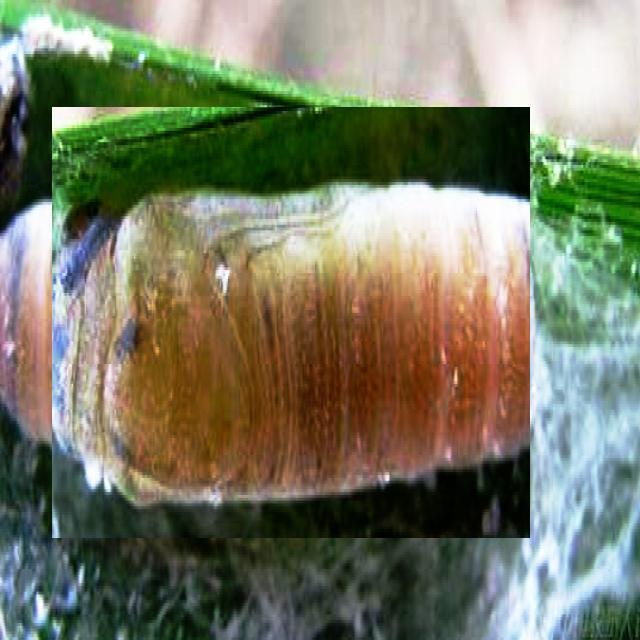leaf-folder: (52, 107, 530, 538)
